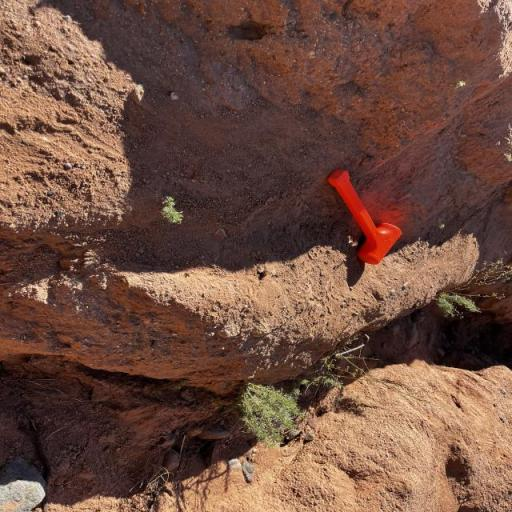mallet: (327, 168, 403, 267)
